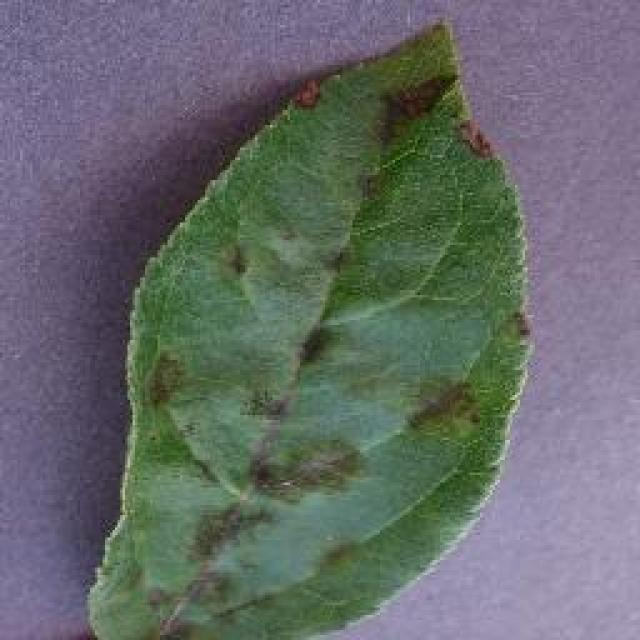apple scab disease: (83, 15, 535, 637)
